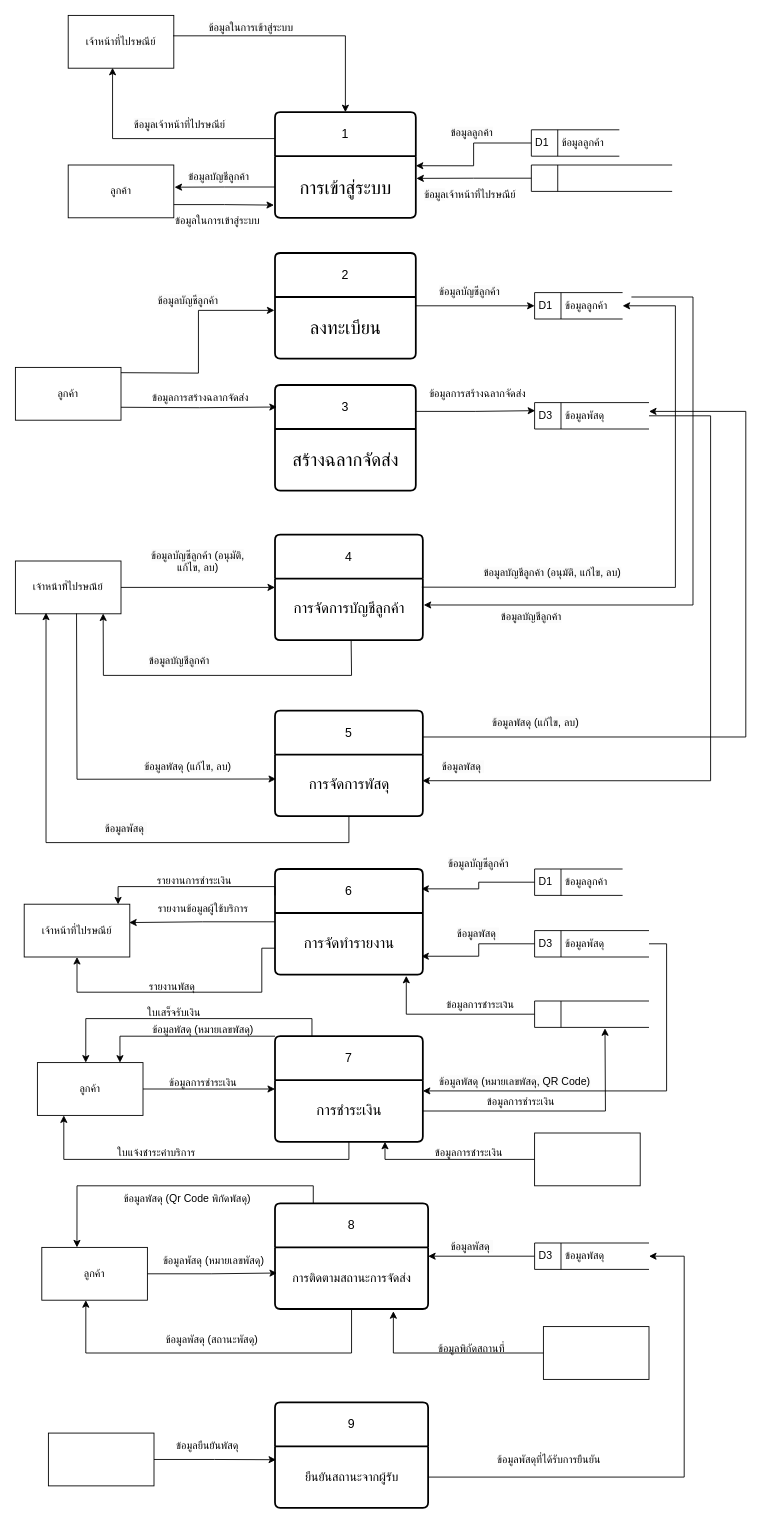
Image size: 768x1524. Some labels were removed from this diagram. The box of each missing label's shape, as (x1, y1, x2, y2) in pixels:
<< Location API Service >>: (543, 1326, 649, 1379)
<< Payment API Service >>: (534, 1132, 640, 1186)
D2 ข้อมูล เจ้าหน้าที่ไปรษณีย์: (530, 164, 672, 191)
D4 ข้อมูลการชำระเงิน: (534, 1000, 649, 1027)
ผู้รับ: (48, 1432, 154, 1486)
